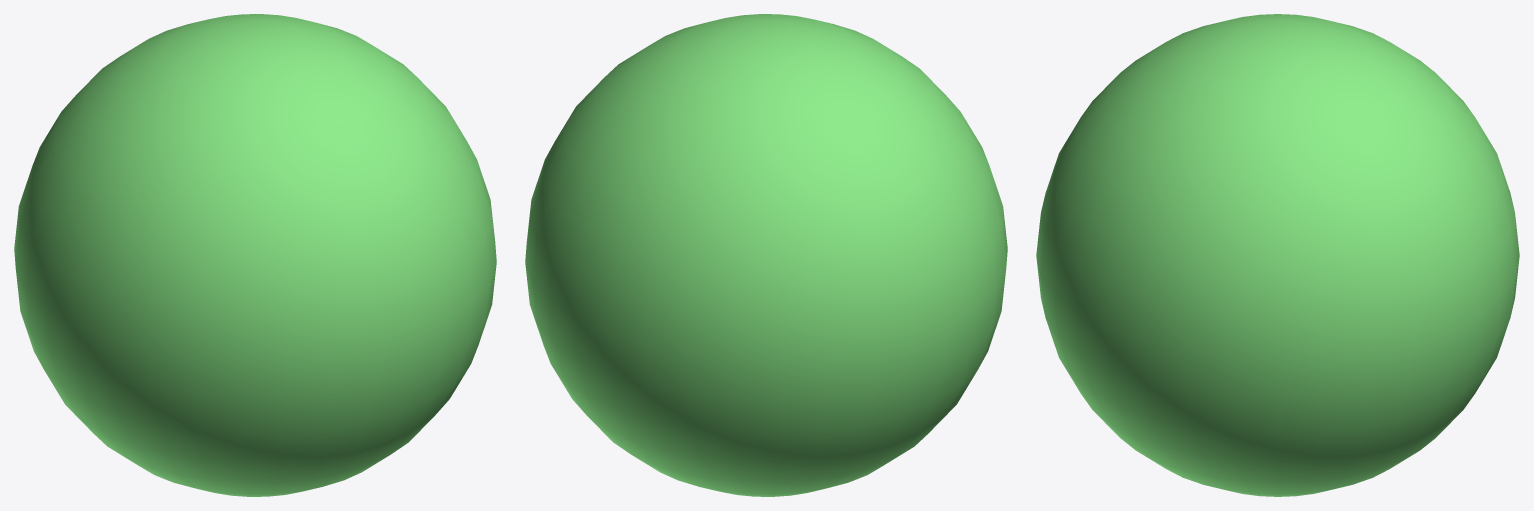
Rendered from bonus_10_.fbx.
3 views of the same model, side by side, from view 1: azimuth 30°, elevation 25°; view 2: azimuth 150°, elevation 25°; view 3: azimuth 270°, elevation 25° (orthographic).
Parts seen in each view (by area): view 1: bonus_10; view 2: bonus_10; view 3: bonus_10.
Part boxes in pixels (x1,y1,x2,y2): bonus_10: [14, 14, 496, 496]; bonus_10: [525, 14, 1007, 496]; bonus_10: [1036, 14, 1519, 496].
Size of the model in its own units: 200 by 200 by 200.
